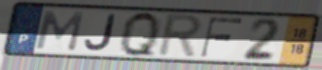2: (242, 17, 283, 62)
F: (197, 16, 245, 59)
J: (82, 13, 119, 53)
M: (33, 9, 87, 53)
Q: (119, 10, 161, 61)
R: (154, 12, 205, 60)
